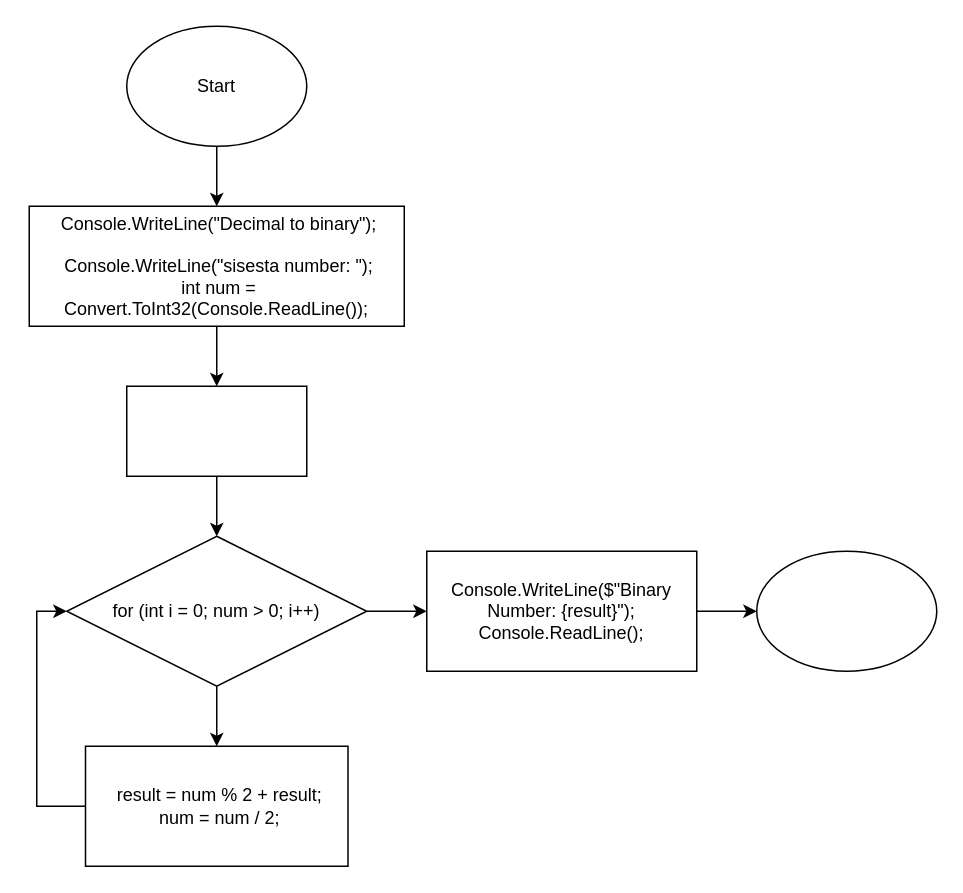
This 963x893 diagram has some shape labels left out. The shapes that lost their labels are listed below. From the top down, each one's centre as x and y in pixels, then its label:
At point 216,430: "string result = string.Empty;".
At point 846,610: "end".
